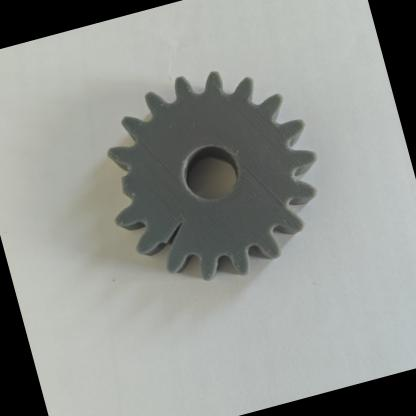defect: (126, 204, 203, 288), (77, 143, 157, 223)
gear: (49, 34, 354, 334)
